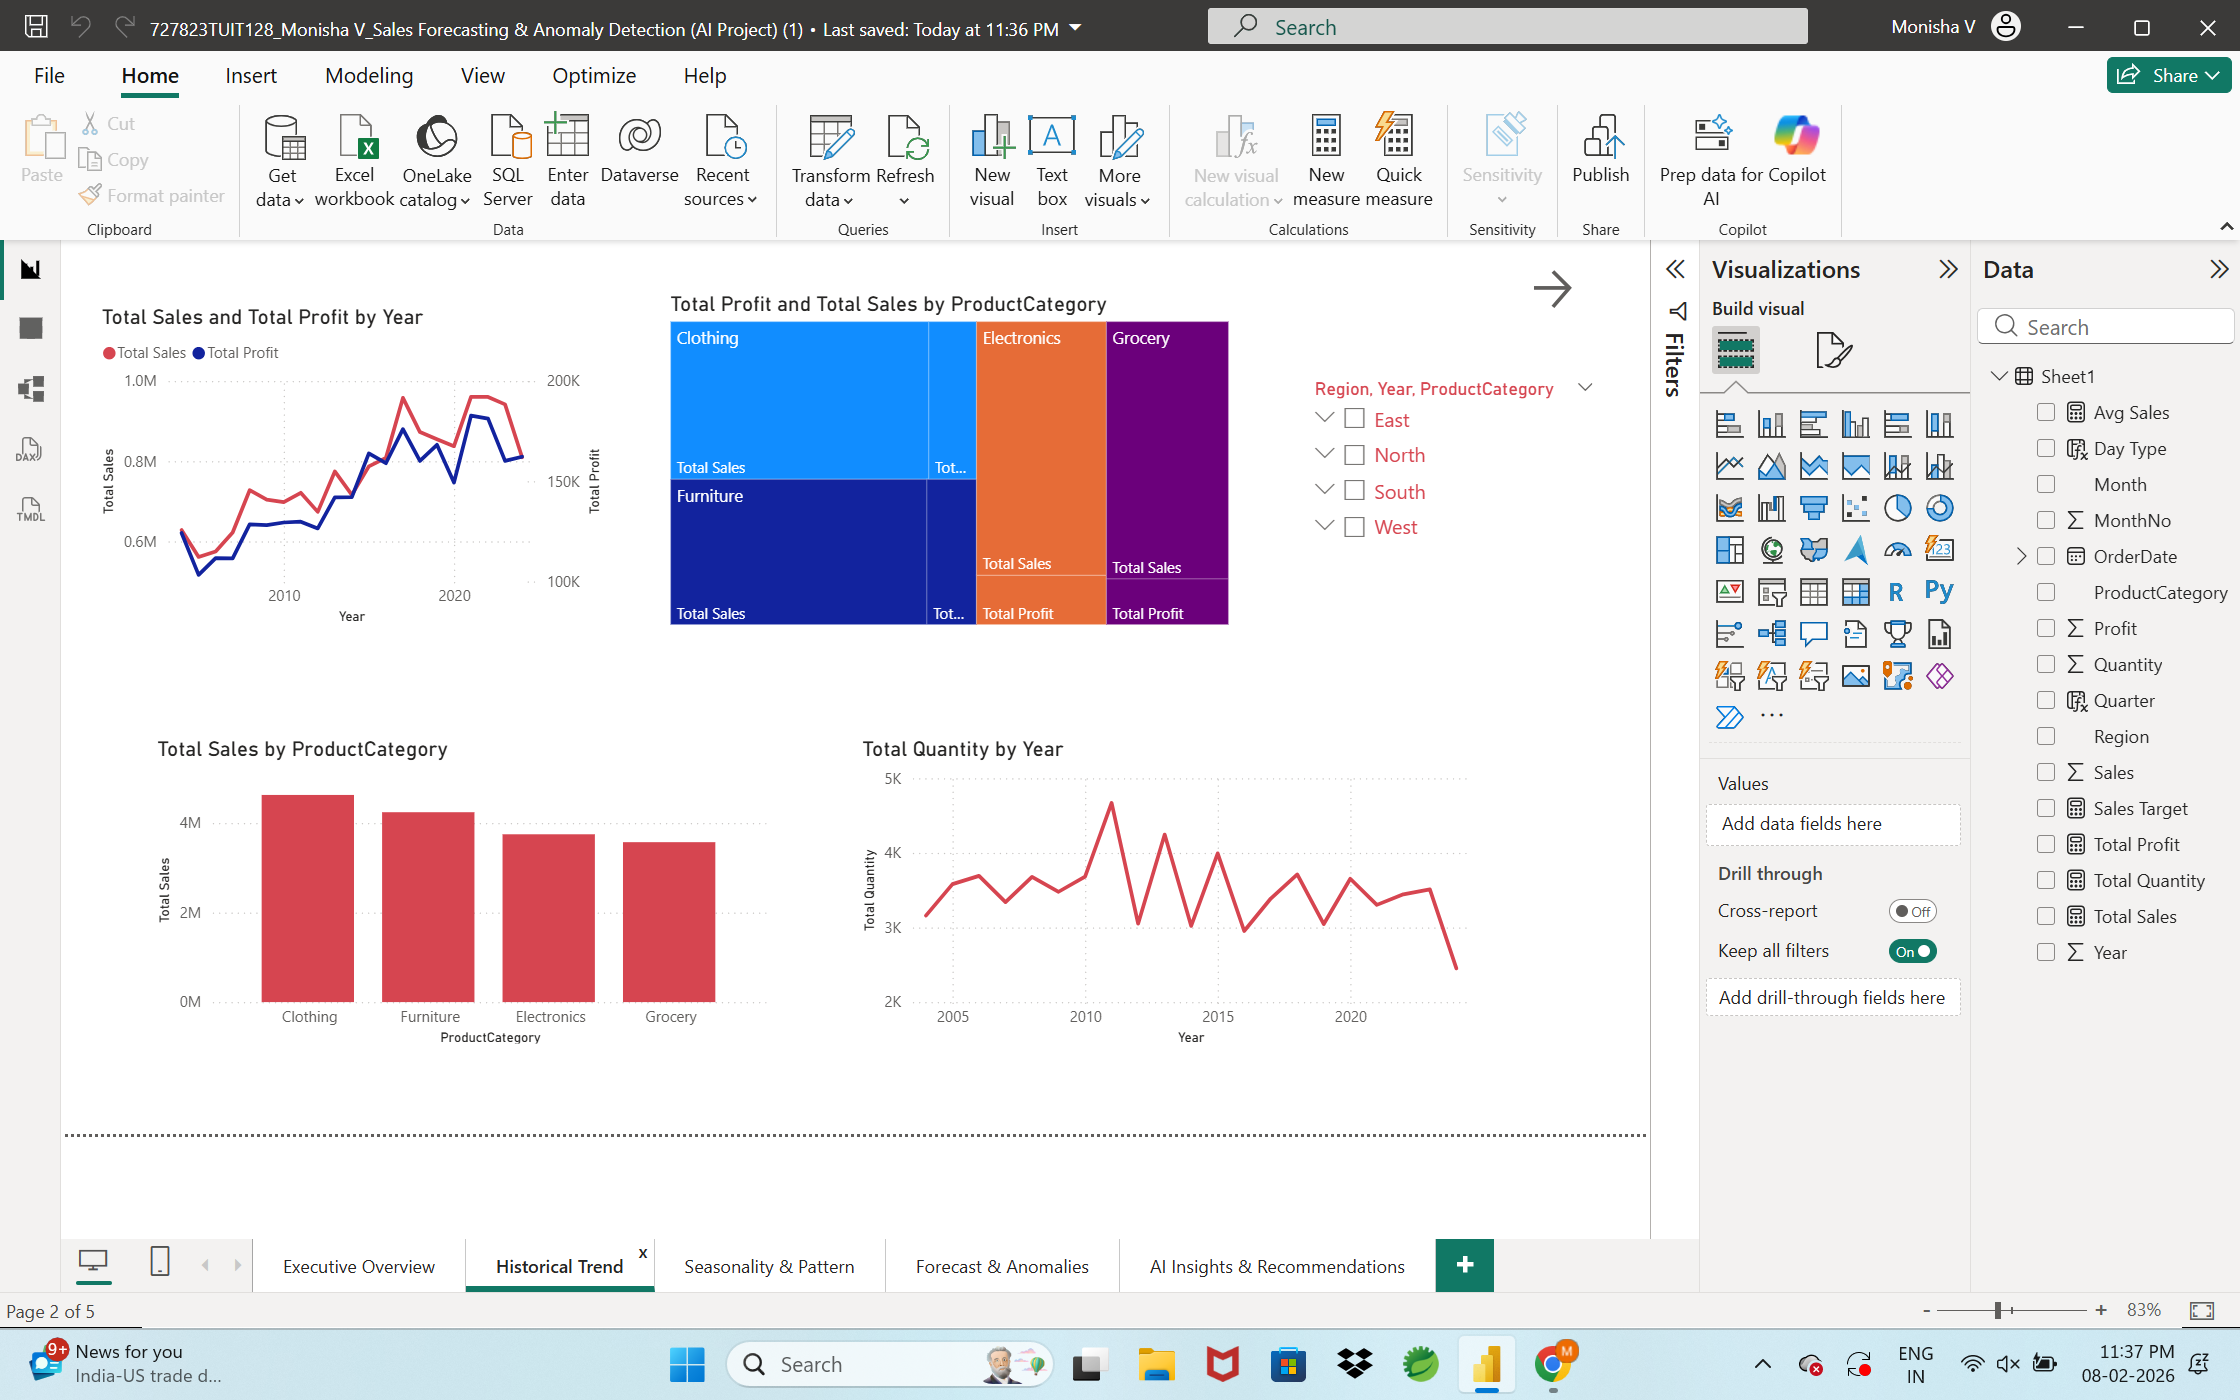

The dashboard page shown, as its layout file describes it:
{"tool":"powerbi","page":{"name":"Historical Trend","canvas":[1280,720],"ordinal":1},"visuals":[{"type":"lineChart","fields":{"Category":["Sheet1.OrderDate.Variation.Date Hierarchy.Year"],"Y":["Sheet1.Total Sales"],"Y2":["Sheet1.Total Profit"]},"box":[27.5,52.4,412.3,261.8],"z":0},{"type":"lineChart","fields":{"Category":["Sheet1.OrderDate.Variation.Date Hierarchy.Year"],"Y":["Sheet1.Total Quantity"]},"box":[640,400.5,501.3,252.6],"z":1000},{"type":"columnChart","fields":{"Category":["Sheet1.ProductCategory"],"Y":["Sheet1.Total Sales"]},"box":[72,400.5,501.3,252.6],"z":2000},{"type":"slicer","fields":{"Values":["Sheet1.Region","Sheet1.Year","Sheet1.ProductCategory"]},"box":[997.4,106,250,167.5],"z":3000},{"type":"actionButton","box":[1180.6,19.6,99.5,40.6],"z":4000},{"type":"treemap","fields":{"Group":["Sheet1.ProductCategory","Sheet1.Region"],"Values":["Sheet1.Total Profit","Sheet1.Total Sales"]},"box":[485.6,40.6,459.4,273.6],"z":5000}]}

Visuals, with their boxes on the page's 1280x720 design canvas (x1, y1, x2, y2). These are canvas units, not pixel positions in the 2240x1400 screenshot, which may show the page scaled, cropped or inside an application window:
lineChart - Sheet1.OrderDate.Variation.Date Hierarchy.Year x Sheet1.Total Sales: <box>28,52,440,314</box>
lineChart - Sheet1.OrderDate.Variation.Date Hierarchy.Year x Sheet1.Total Quantity: <box>640,400,1141,653</box>
columnChart - Sheet1.ProductCategory x Sheet1.Total Sales: <box>72,400,573,653</box>
slicer - Sheet1.Region x Sheet1.Year: <box>997,106,1247,274</box>
actionButton: <box>1181,20,1280,60</box>
treemap - Sheet1.ProductCategory x Sheet1.Region: <box>486,41,945,314</box>
